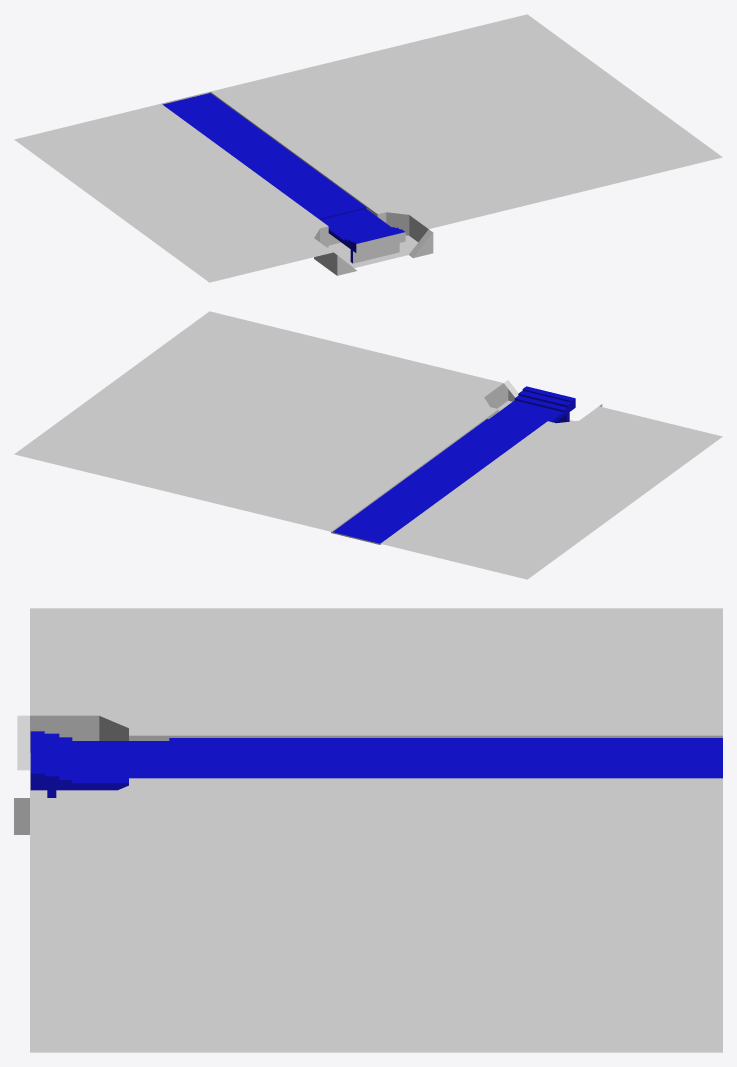
File: Ground.fbx
3 renders of one model, top to bottom at view 1: azimuth 30°, elevation 25°; view 2: azimuth 150°, elevation 25°; view 3: azimuth 270°, elevation 25°, orthographic. The views are drawn at different scales.
Parts seen in each view (by area): view 1: Plane.004; view 2: Plane.004; view 3: Plane.004.
Part boxes in pixels (x1,y1,x2,y2): Plane.004: [14, 14, 722, 282]; Plane.004: [14, 311, 722, 579]; Plane.004: [14, 608, 722, 1052].
Bounding box in the file's own units: 3032 × 132 × 2046.
